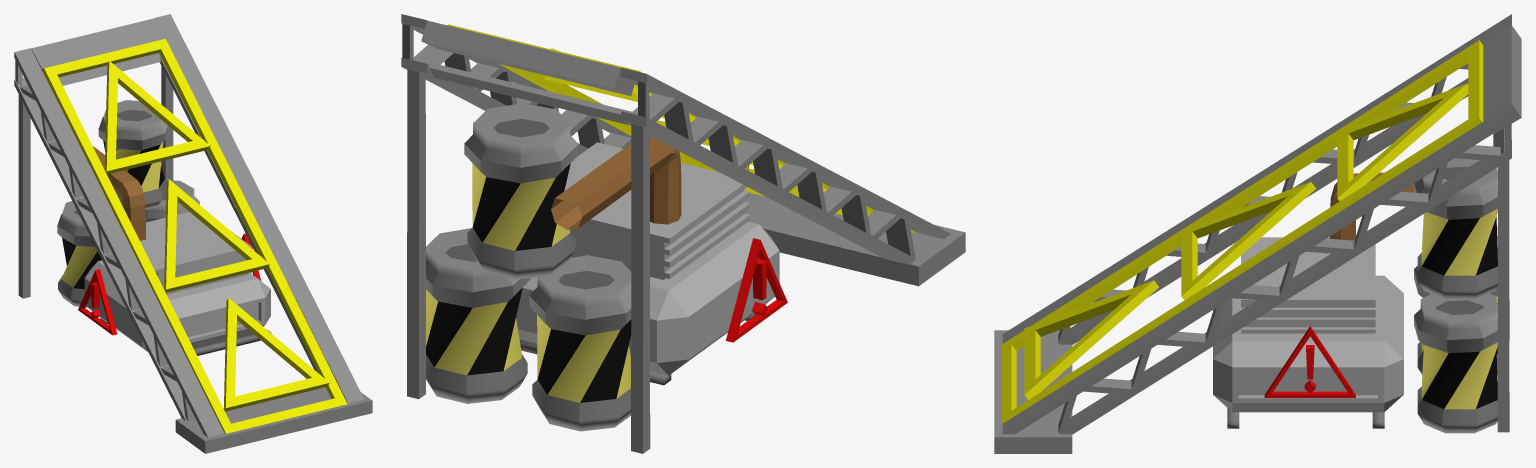
File: ramp01.fbx
The picture shows the model from 3 angles, left to right: view 1: azimuth 30°, elevation 25°; view 2: azimuth 150°, elevation 25°; view 3: azimuth 270°, elevation 25°; orthographic projection. The views are drawn at different scales.
Parts seen in each view (by area): view 1: estructura1, marcoGlow, generador, estructura, pCube10, pCube49, flecha01, flecha02, flecha03, barril1, pCube11, barril2 (+3 smaller); view 2: generador, estructura1, barril1, barril2, pCube49, barril, pCube10, tuberia, estructura, pCube11, warning1, marcoGlow; view 3: generador, estructura, marcoGlow, barril, estructura1, barril1, flecha01, flecha02, flecha03, pCube10, pCube49, pCube11 (+2 smaller).
Part boxes in pixels (bbox=[...]): estructura1: bbox=[14, 48, 224, 437]; marcoGlow: bbox=[42, 39, 347, 433]; generador: bbox=[84, 212, 271, 355]; estructura: bbox=[154, 14, 364, 403]; pCube10: bbox=[175, 387, 372, 453]; pCube49: bbox=[18, 53, 173, 298]; flecha01: bbox=[224, 297, 329, 411]; flecha02: bbox=[164, 179, 269, 292]; flecha03: bbox=[104, 61, 210, 174]; barril1: bbox=[98, 100, 168, 209]; pCube11: bbox=[31, 18, 164, 70]; barril2: bbox=[57, 201, 101, 307]; generador: bbox=[516, 142, 779, 385]; estructura1: bbox=[621, 67, 950, 264]; barril1: bbox=[464, 103, 578, 279]; barril2: bbox=[529, 255, 631, 431]; pCube49: bbox=[407, 58, 650, 453]; barril: bbox=[426, 228, 530, 403]; pCube10: bbox=[744, 193, 965, 286]; tuberia: bbox=[551, 136, 681, 229]; estructura: bbox=[401, 14, 631, 156]; pCube11: bbox=[421, 20, 634, 95]; warning1: bbox=[726, 238, 787, 342]; marcoGlow: bbox=[448, 24, 916, 233]; generador: bbox=[1213, 237, 1403, 428]; estructura: bbox=[1002, 104, 1511, 434]; marcoGlow: bbox=[1001, 40, 1483, 423]; barril: bbox=[1414, 293, 1497, 433]; estructura1: bbox=[1002, 14, 1511, 344]; barril1: bbox=[1414, 158, 1497, 299]; flecha01: bbox=[1024, 280, 1158, 399]; flecha02: bbox=[1181, 182, 1316, 300]; flecha03: bbox=[1337, 83, 1468, 200]; pCube10: bbox=[994, 330, 1072, 453]; pCube49: bbox=[1493, 128, 1509, 432]; pCube11: bbox=[1483, 25, 1521, 134].
Size of the model in its own units: 3.23 by 4.74 by 6.72.
